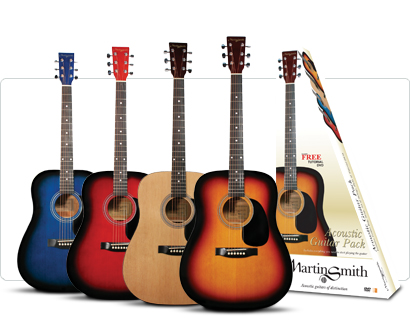guitar: (180, 36, 292, 313), (123, 42, 207, 307), (66, 47, 149, 301), (17, 52, 96, 295), (276, 51, 337, 257)
